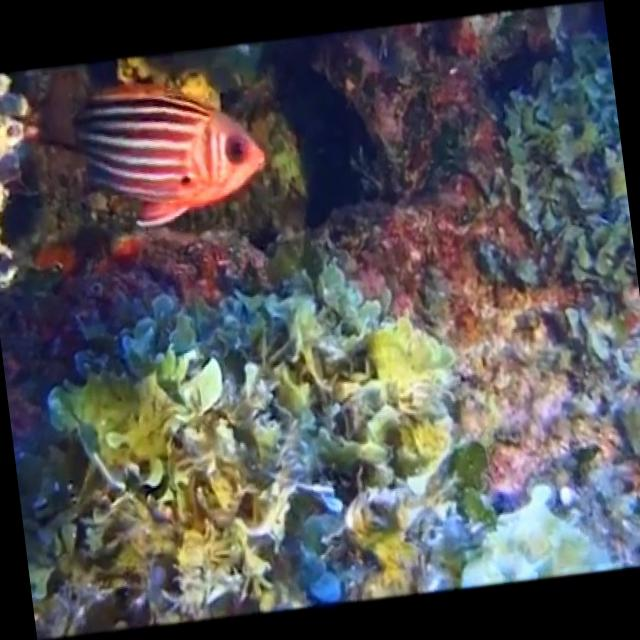Asker Baligi: (64, 61, 273, 238)
